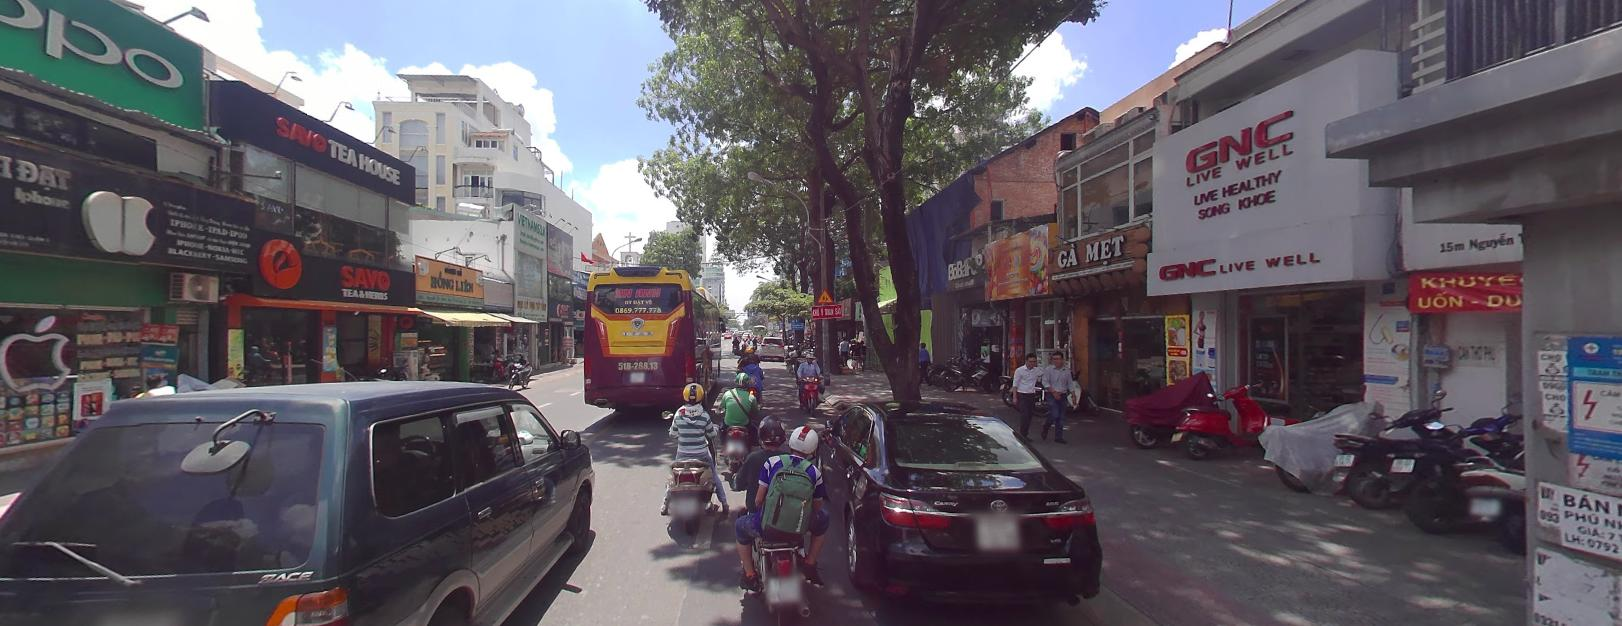Nguy hiem: (815, 286, 833, 302)
